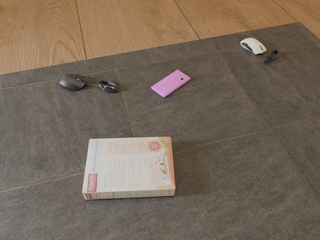box: (82, 137, 175, 199)
mouse: (58, 73, 88, 91), (241, 38, 266, 54)
phone: (151, 70, 190, 97)
